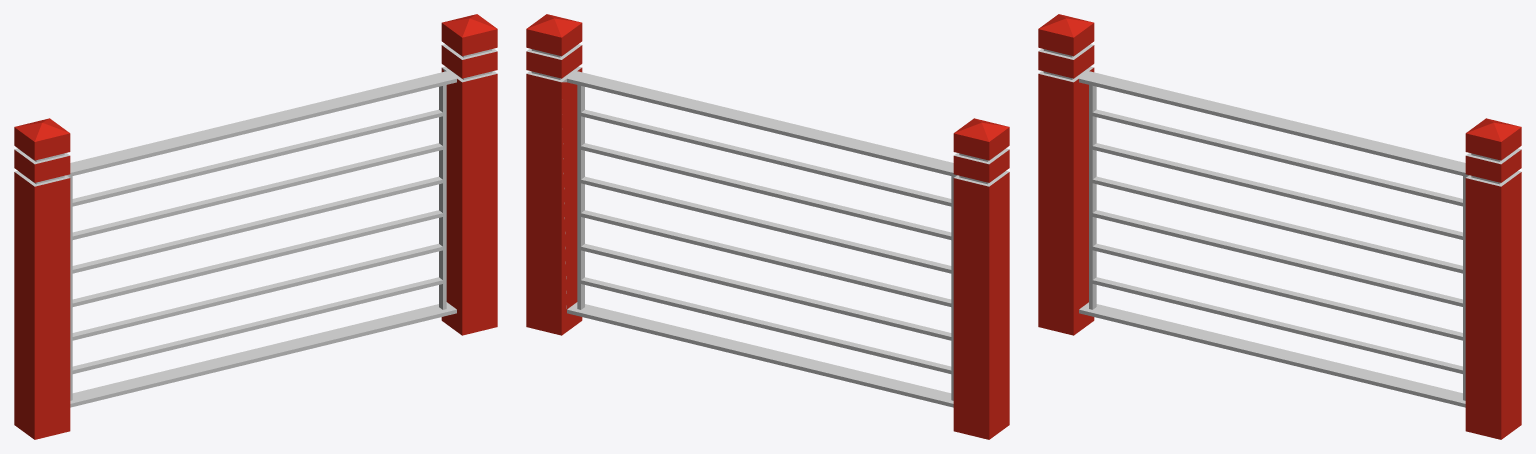
Rendered from handrail.fbx.
3 views of the same model, side by side, from view 1: azimuth 30°, elevation 25°; view 2: azimuth 150°, elevation 25°; view 3: azimuth 330°, elevation 25° (orthographic).
Parts seen in each view (by area): view 1: Group#198-Entity870271; view 2: Group#198-Entity870271; view 3: Group#198-Entity870271.
Boxes of the visible parts, box(x1,y1,x2,y2) form: Group#198-Entity870271: box(14, 14, 497, 439); Group#198-Entity870271: box(526, 14, 1009, 439); Group#198-Entity870271: box(1038, 14, 1521, 439).
Size of the model in its own units: 130 by 82 by 10.
